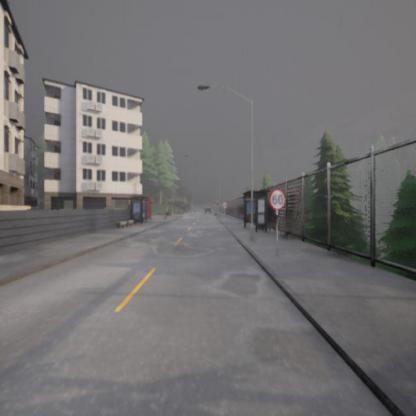traffic_sign_60: (270, 189, 286, 209)
